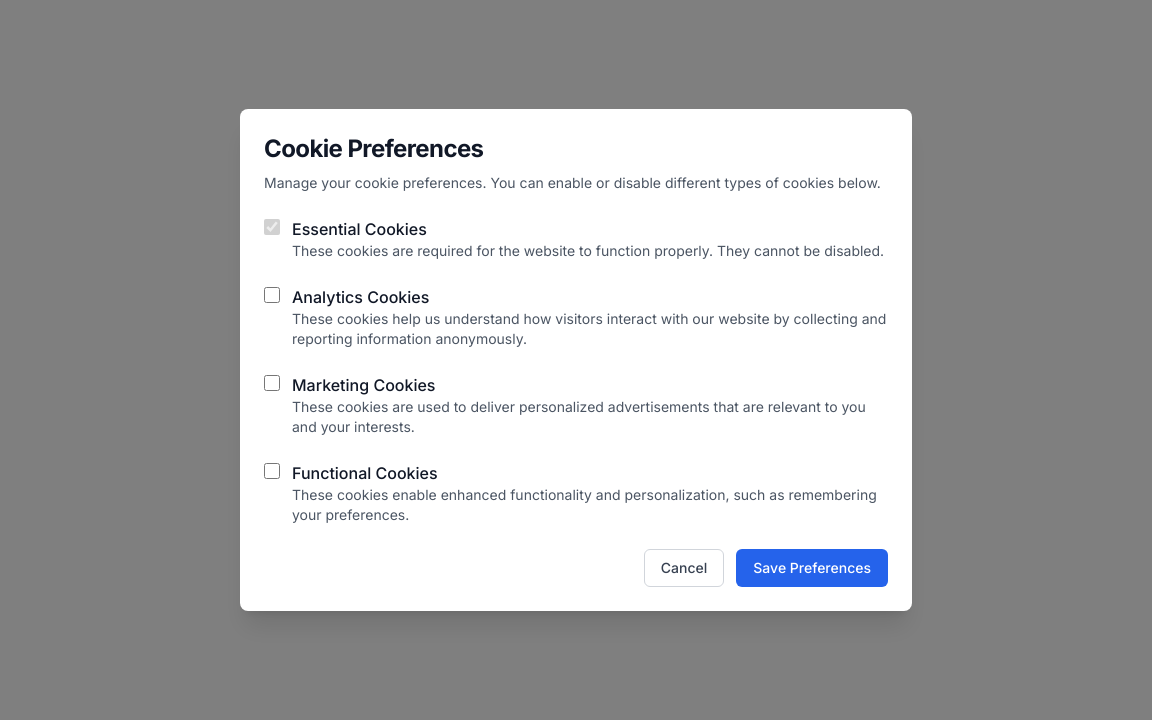
Scenario: CookiePreferenceCenter Component › Error Handling › should show error message when save fails
The image size is (1152, 720).
expect the dialog is shown: met, box [240,109,912,611]
Click the button "Save Preferences" at {"x": 812, "y": 568}, box [736,549,888,587]
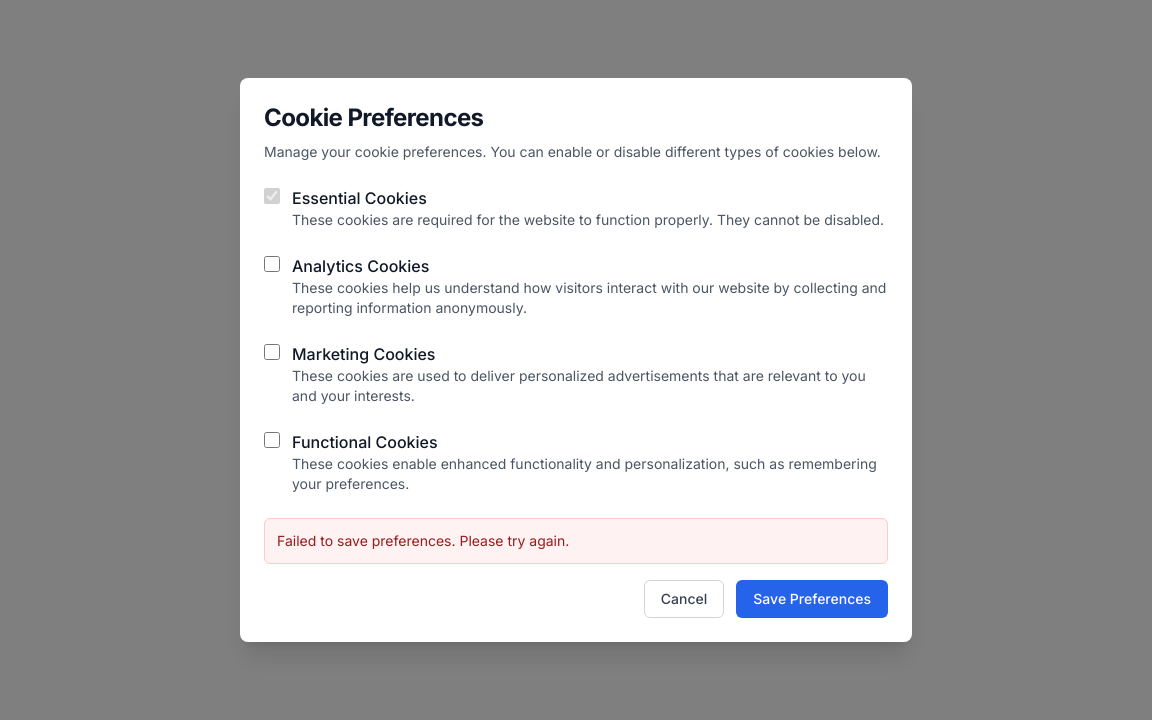
expect the text "Failed to save preferences. Please try again." is shown: met, box [277,532,569,549]
